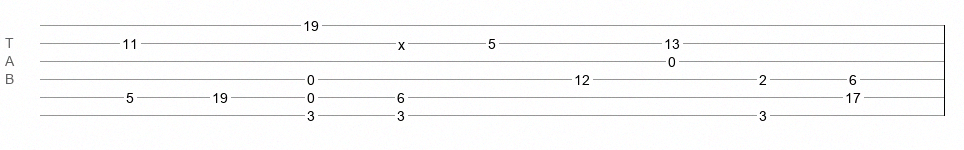0: (307, 72, 315, 82), (307, 90, 315, 100), (668, 54, 676, 64)
11: (122, 36, 138, 46)
12: (574, 72, 590, 82)
13: (664, 36, 680, 46)
17: (845, 90, 861, 100)
19: (212, 90, 228, 100), (303, 18, 319, 28)
2: (759, 72, 767, 82)
3: (307, 108, 315, 118), (397, 108, 405, 118), (759, 108, 767, 118)
5: (126, 90, 134, 100), (488, 36, 496, 46)
6: (397, 90, 405, 100), (849, 72, 857, 82)
x: (398, 37, 405, 45)
